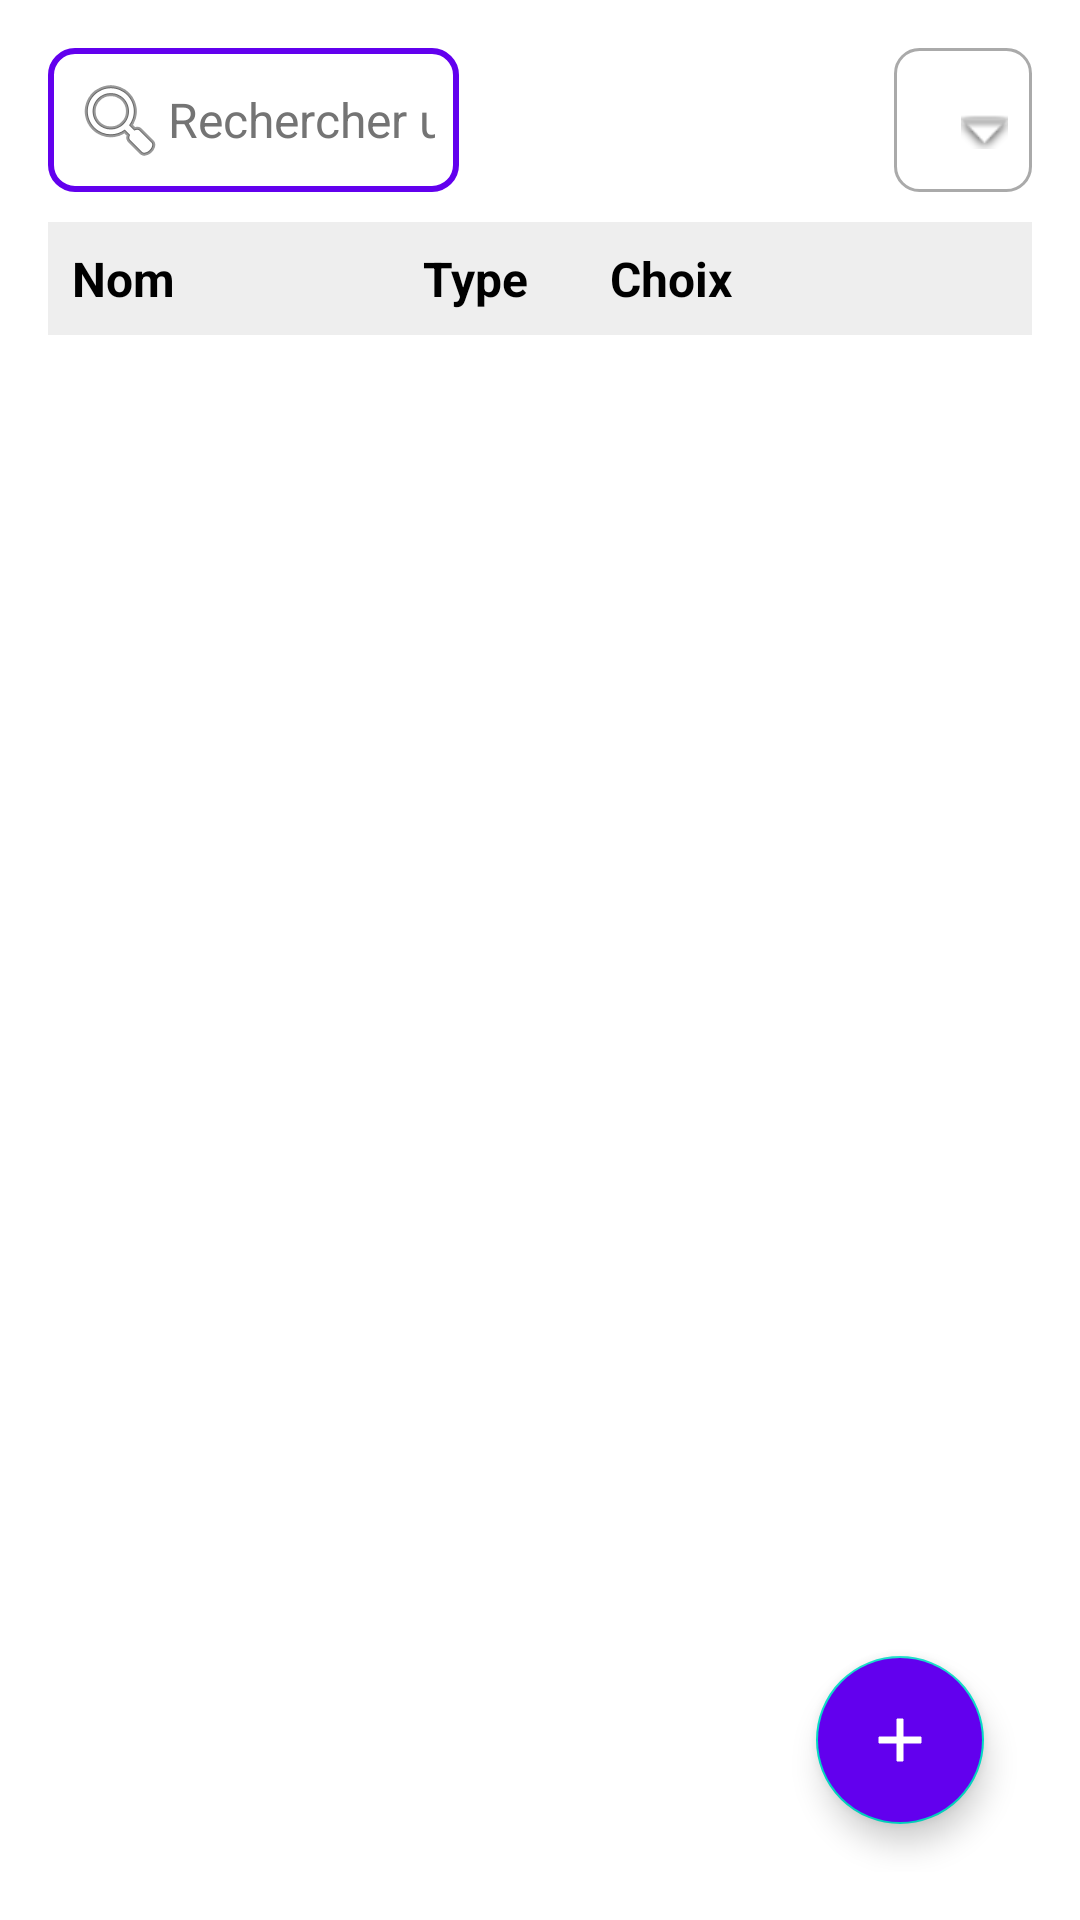

Screen size 1080*1920. Icon name, then its box in pixels as (x1, y1, x2, y2):
Ajouter une option: (816, 1656, 984, 1824)
